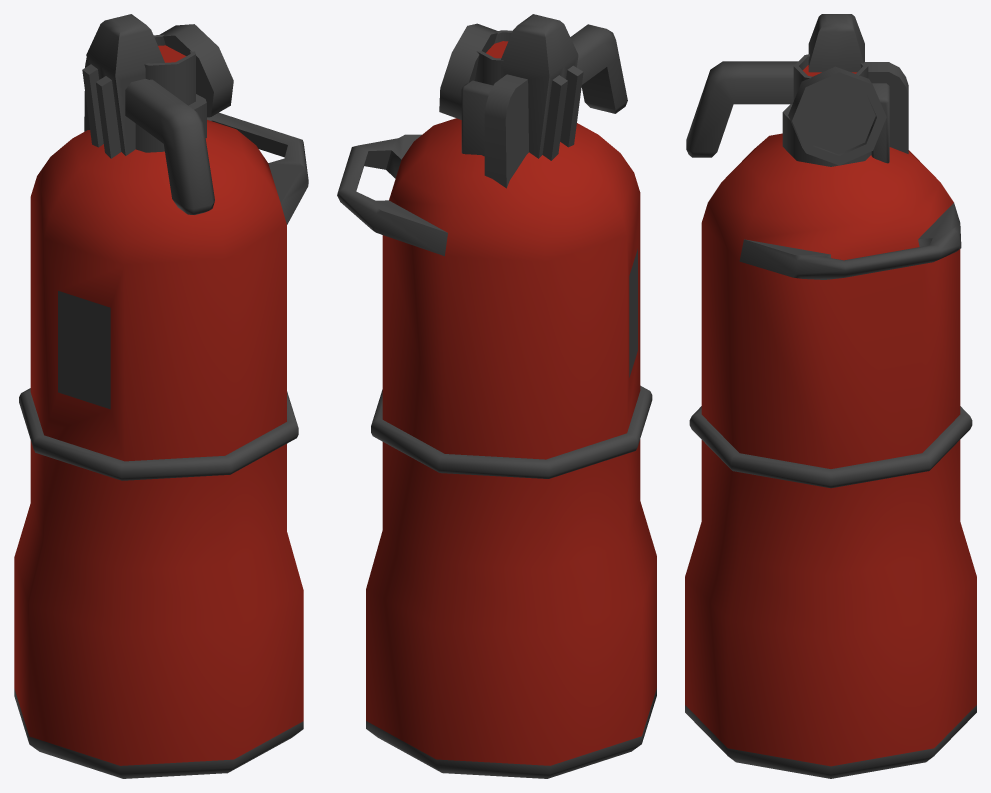
The model's file is Gaz.fbx.
The picture shows the model from 3 angles, left to right: view 1: azimuth 30°, elevation 25°; view 2: azimuth 150°, elevation 25°; view 3: azimuth 270°, elevation 25°; orthographic projection. The views are drawn at different scales.
Visible parts, largest first — view 1: Cube; view 2: Cube; view 3: Cube.
Part boxes in pixels (left/top/right/bottom): Cube: left=14, top=14, right=308, bottom=778; Cube: left=337, top=14, right=656, bottom=778; Cube: left=685, top=14, right=976, bottom=778.
Size of the model in its own units: 0.7436 by 1.78 by 0.6842.
